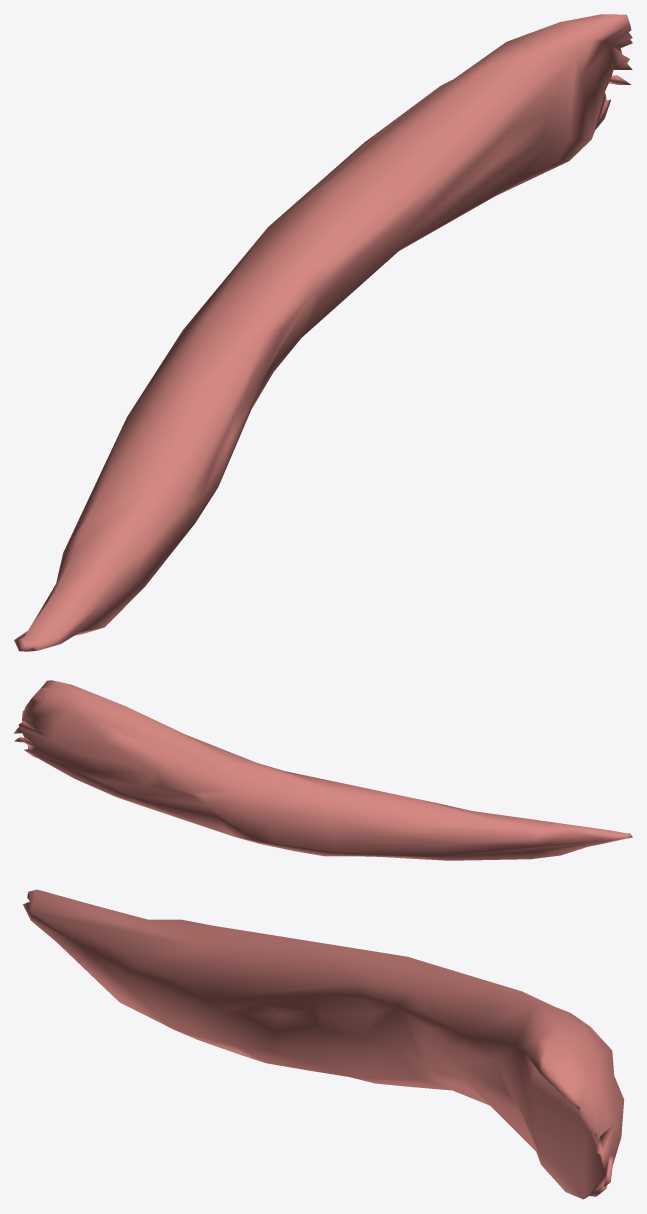
3 views of the same model, one above another, from view 1: azimuth 30°, elevation 25°; view 2: azimuth 150°, elevation 25°; view 3: azimuth 270°, elevation 25° (orthographic). The views are drawn at different scales.
Parts seen in each view (by area): view 1: ZA_5ae8af216d96ffb1; view 2: ZA_5ae8af216d96ffb1; view 3: ZA_5ae8af216d96ffb1.
Boxes of the visible parts, x1,y1,x2,y2 form: ZA_5ae8af216d96ffb1: [14, 14, 632, 651]; ZA_5ae8af216d96ffb1: [14, 680, 632, 860]; ZA_5ae8af216d96ffb1: [23, 889, 624, 1199].
Bounding box in the file's own units: 0.0835 × 0.0272 × 0.0457.
